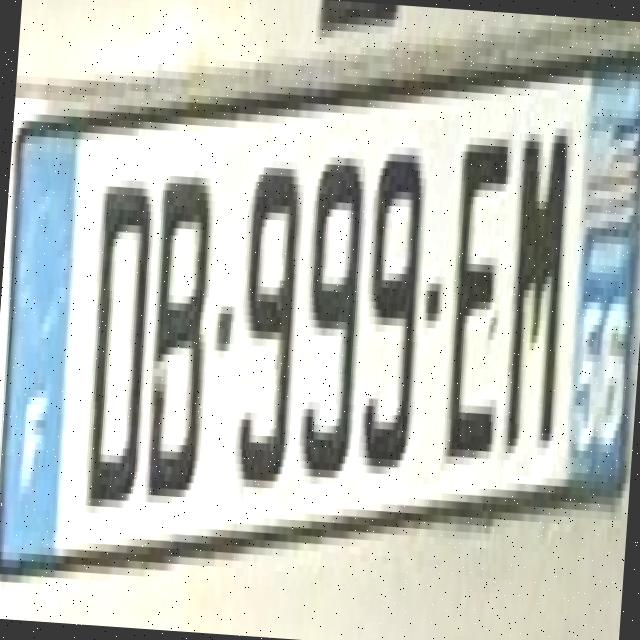EU: (0, 50, 640, 559)
France: (0, 127, 80, 566)
